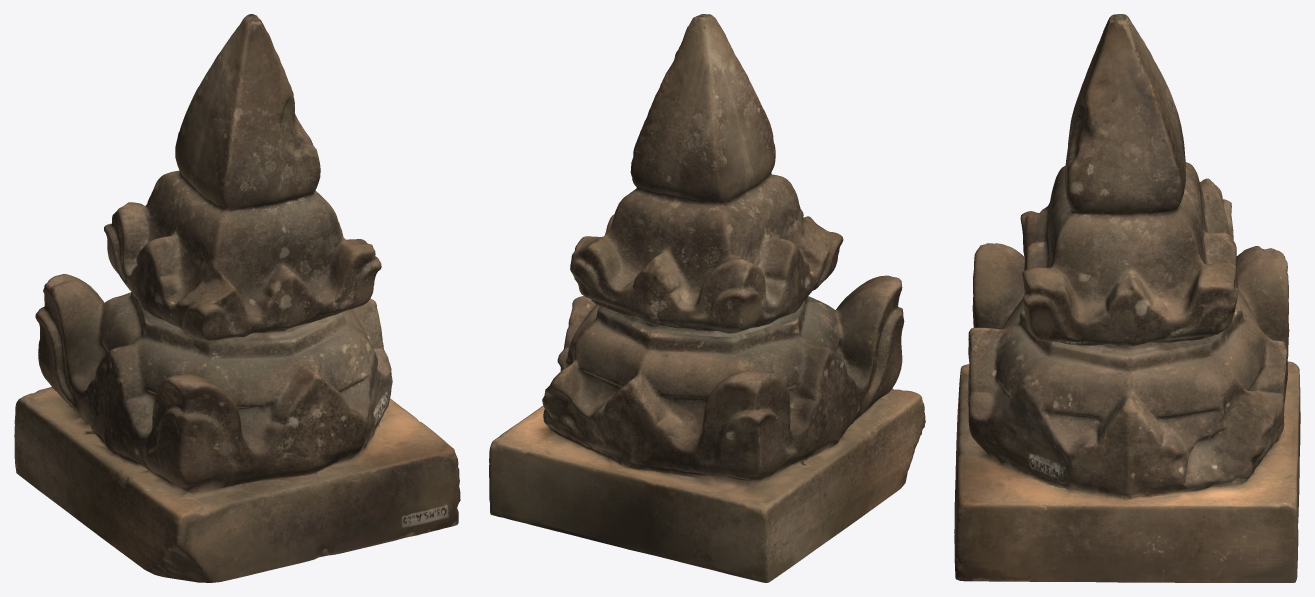
The model's file is MysonMyseum_dinhthapgocbangsathachA1_final.glb.
3 views of the same model, side by side, from view 1: azimuth 30°, elevation 25°; view 2: azimuth 150°, elevation 25°; view 3: azimuth 270°, elevation 25° (orthographic). The views are drawn at different scales.
Size of the model in its own units: 0.5802 by 0.9225 by 0.5794.
Materials: 1 (1 with a texture image).
